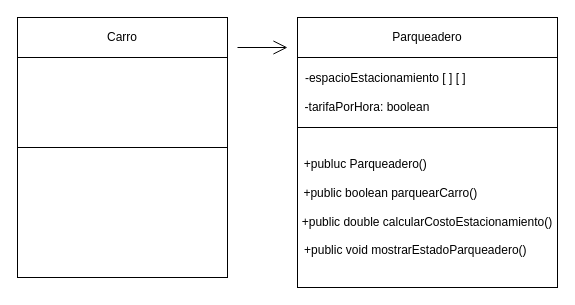
This 575x305 diagram has some shape labels left out. The shapes that lost their labels are listed below. From the top down, each one's box as (x1, y1, x2, y2) in pixels, then its label:
(16, 56, 228, 148): -placa: String -marca: String -modelo: String
(16, 146, 228, 278): +publicCarro() +getPlaca() +getMarca() +getModelo()
